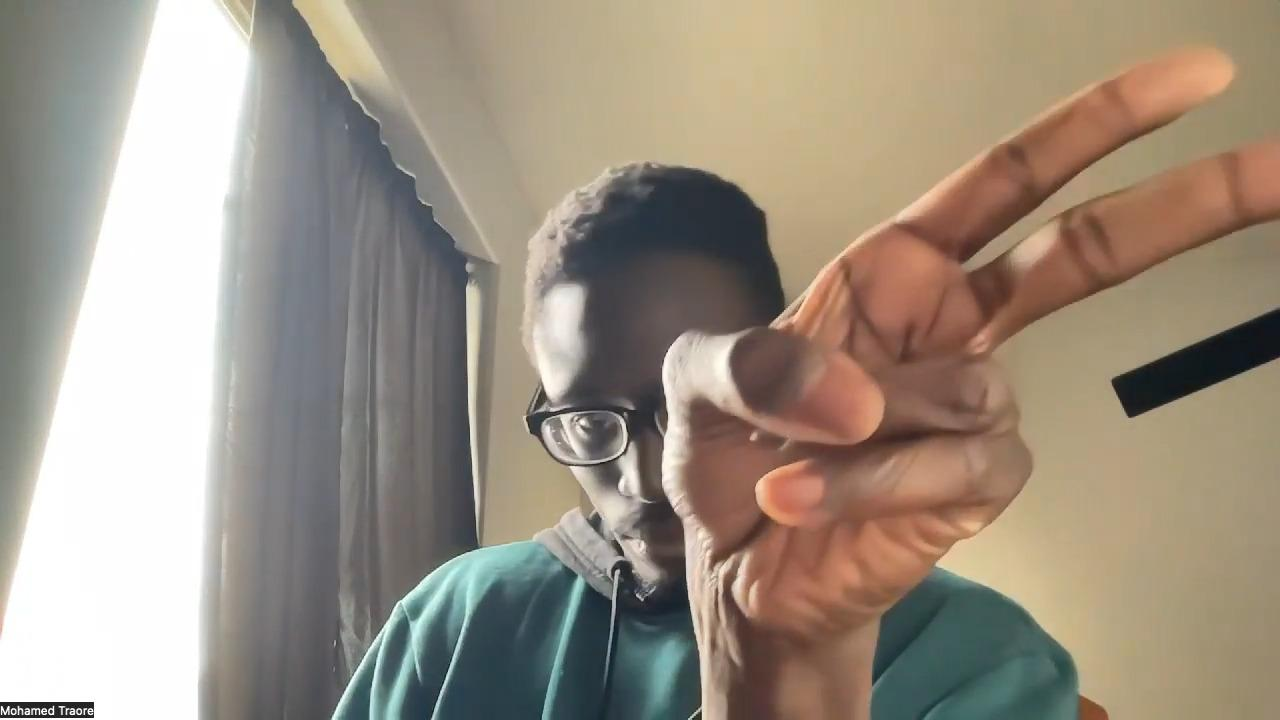Scissors: (663, 45, 1280, 639)
